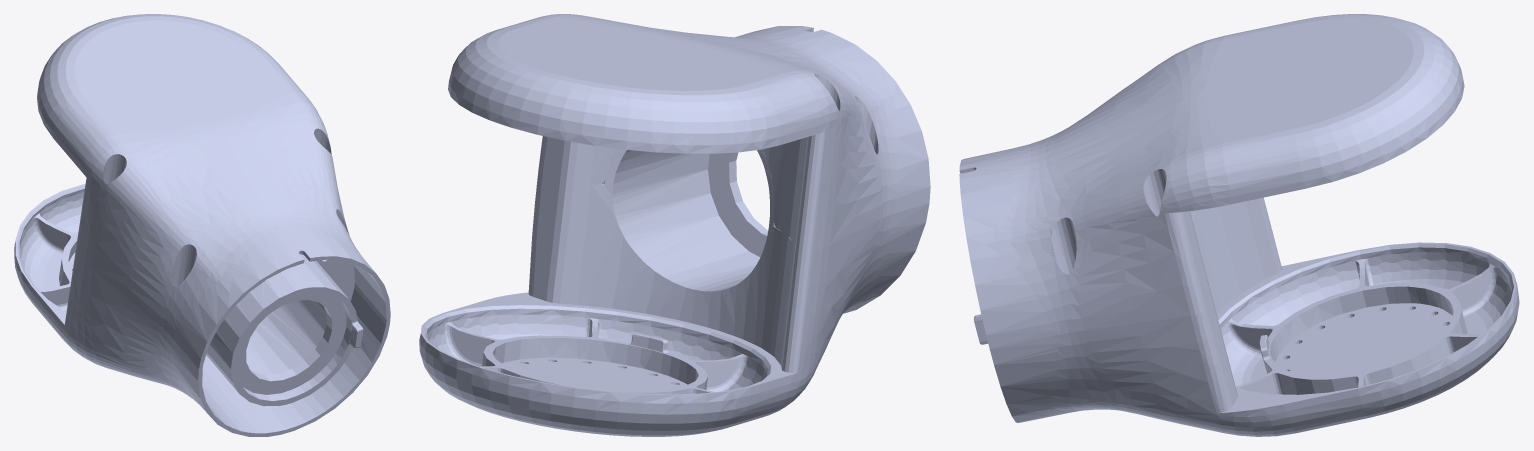
File: converted_armr_Link1_cad1eeff.obj
3 views of the same model, side by side, from view 1: azimuth 30°, elevation 25°; view 2: azimuth 150°, elevation 25°; view 3: azimuth 270°, elevation 25° (orthographic). The views are drawn at different scales.
Bounding box in the file's own units: 0.1206 × 0.1475 × 0.2071.
